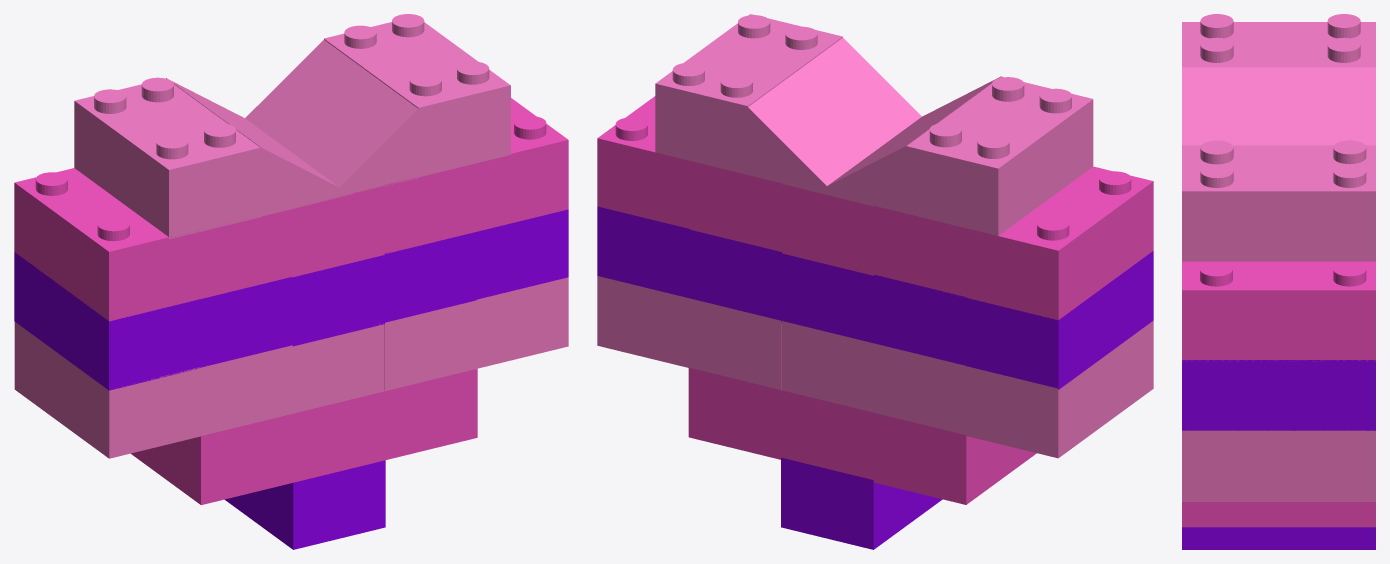
Rendered from Heart.fbx.
The picture shows the model from 3 angles, left to right: view 1: azimuth 30°, elevation 25°; view 2: azimuth 150°, elevation 25°; view 3: azimuth 270°, elevation 25°; orthographic projection. The views are drawn at different scales.
Visible parts, largest first — view 1: Cube.021, Cube.019, Cube.018, Cube.017, Cube.004, Cube.020, Cube.003, Cube, Cube.010, Cube.015, Cube.002, Cube.001 (+21 smaller); view 2: Cube.021, Cube.019, Cube.018, Cube.017, Cube.004, Cube.020, Cube.003, Cube, Cube.010, Cube.001, Cube.009, Cube.013 (+21 smaller); view 3: Cube.020, Cube.010, Cube.021, Cube.008, Cube.009, Cube.019, Cube.001, Cube, Cylinder.002, Cylinder.001, Cylinder.003, Cylinder (+6 smaller).
Part boxes in pixels (x1,y1,x2,y2): Cube.021: (166,40,418,216); Cube.019: (74,78,261,239); Cube.018: (14,168,200,321); Cube.017: (14,252,200,390); Cube.004: (14,322,201,458); Cube.020: (324,22,510,177); Cube.003: (131,414,293,505); Cube: (224,460,385,549); Cube.010: (476,98,568,231); Cube.015: (292,255,384,346); Cube.002: (293,391,385,482); Cube.001: (385,368,477,459); Cube.021: (747,38,1001,213); Cube.019: (905,76,1093,235); Cube.018: (966,166,1153,320); Cube.017: (966,251,1153,389); Cube.004: (966,320,1153,458); Cube.020: (655,14,842,174); Cube.003: (873,413,1036,504); Cube: (781,457,942,549); Cube.010: (597,96,689,228); Cube.001: (688,367,780,459); Cube.009: (597,206,689,298); Cube.013: (782,184,874,275); Cube.020: (1182,145,1375,261); Cube.010: (1182,261,1375,361); Cube.021: (1182,67,1375,145); Cube.008: (1182,430,1375,501); Cube.009: (1182,360,1375,430); Cube.019: (1182,22,1375,67); Cube.001: (1182,502,1375,527); Cube: (1182,527,1375,549); Cylinder.002: (1200,37,1233,62); Cylinder.001: (1327,37,1360,62); Cylinder.003: (1200,14,1233,38); Cylinder: (1327,14,1360,38).
Size of the model in its own units: 431 by 377 by 154.
